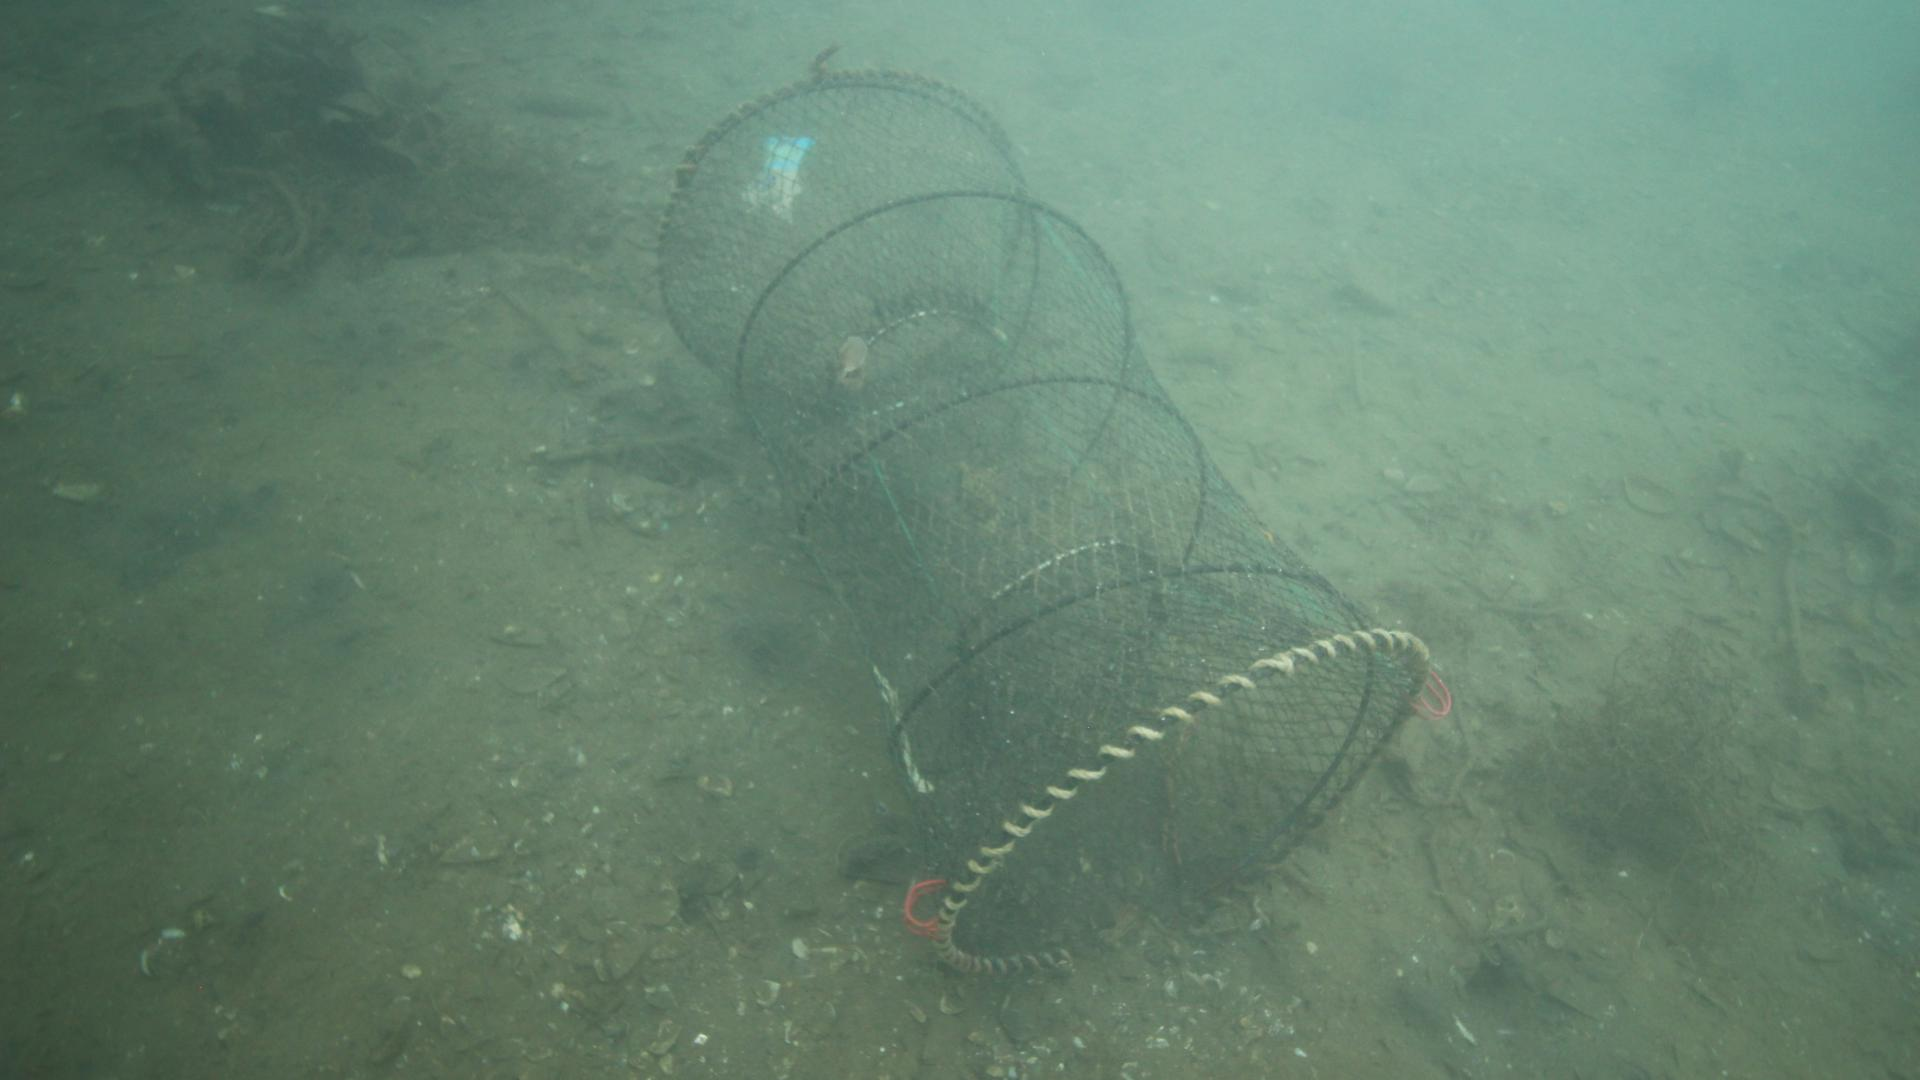spring fish trap: (657, 69, 1437, 982)
